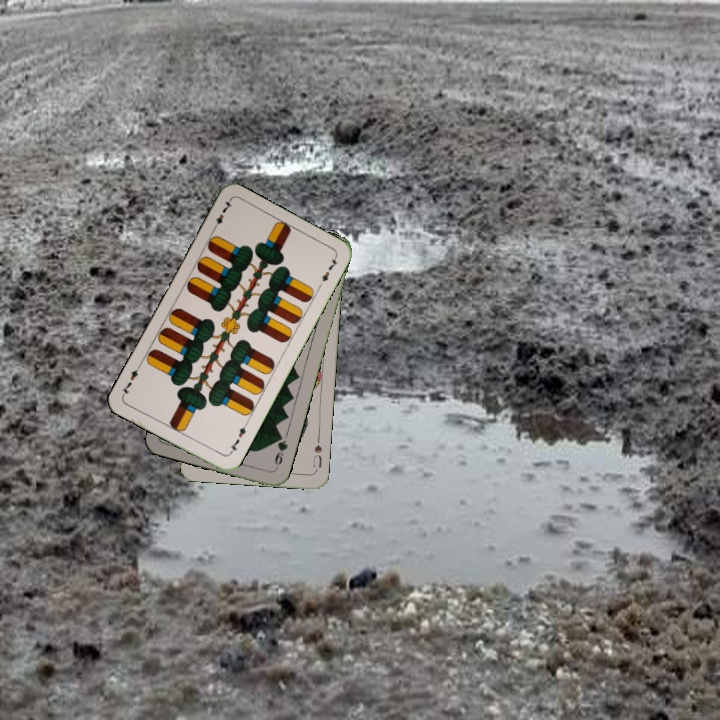E7: (209, 196, 234, 234), (225, 420, 250, 457)
G9: (271, 430, 290, 472)
SU: (309, 433, 325, 474)
